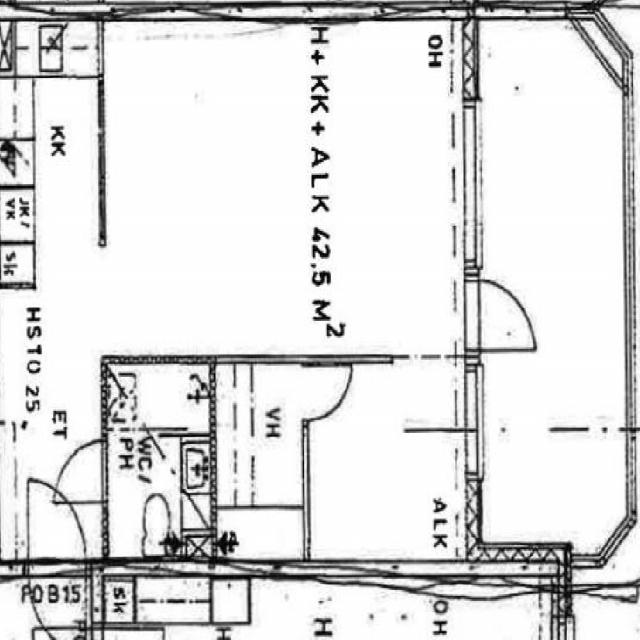door: (28, 483, 85, 575), (28, 558, 85, 640), (463, 281, 530, 350), (52, 439, 106, 502), (303, 367, 350, 420)
